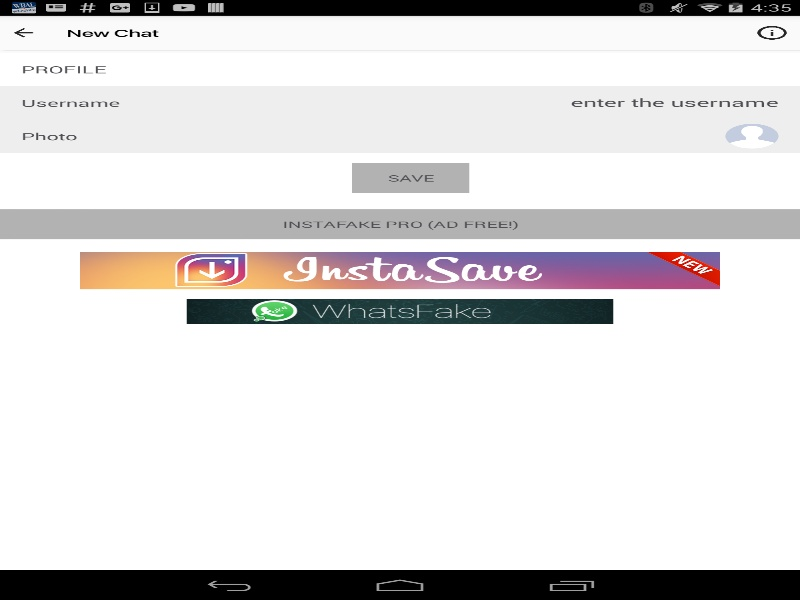Button: (0, 209, 800, 239), (352, 163, 469, 193)
Input: (141, 94, 800, 109)
